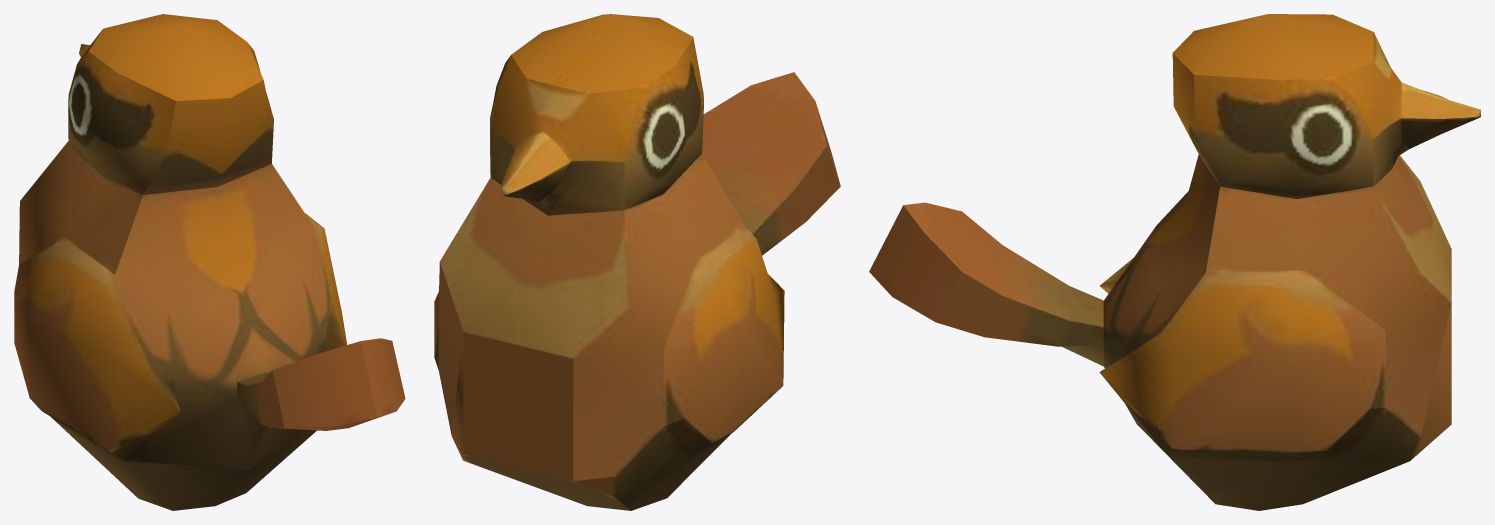
The model's file is Ani_Bird.obj.
The picture shows the model from 3 angles, left to right: view 1: azimuth 30°, elevation 25°; view 2: azimuth 150°, elevation 25°; view 3: azimuth 270°, elevation 25°; orthographic projection. The views are drawn at different scales.
Parts seen in each view (by area): view 1: Ani_Bird; view 2: Ani_Bird; view 3: Ani_Bird.
Boxes of the visible parts, <box> form: Ani_Bird: <box>14,14,405,510</box>; Ani_Bird: <box>434,14,840,510</box>; Ani_Bird: <box>869,14,1480,510</box>.
Bounding box in the file's own units: 0.4745 × 0.7213 × 0.8478.
1 material, 1 textured.
